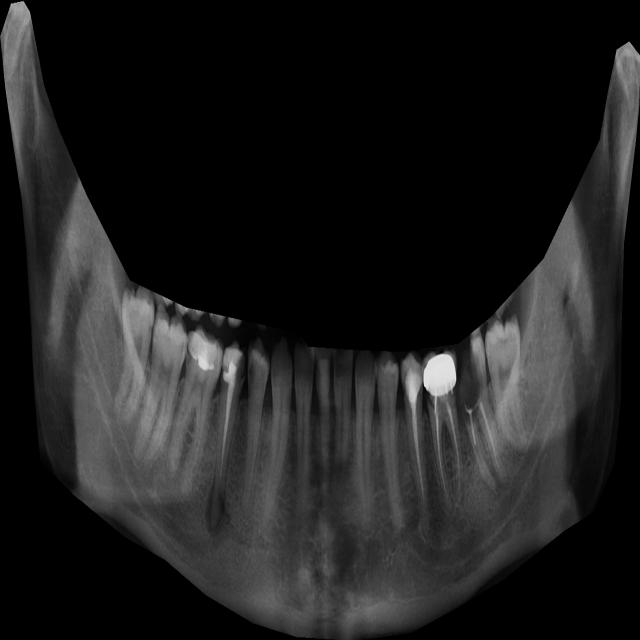mandibula: (0, 1, 640, 640)
